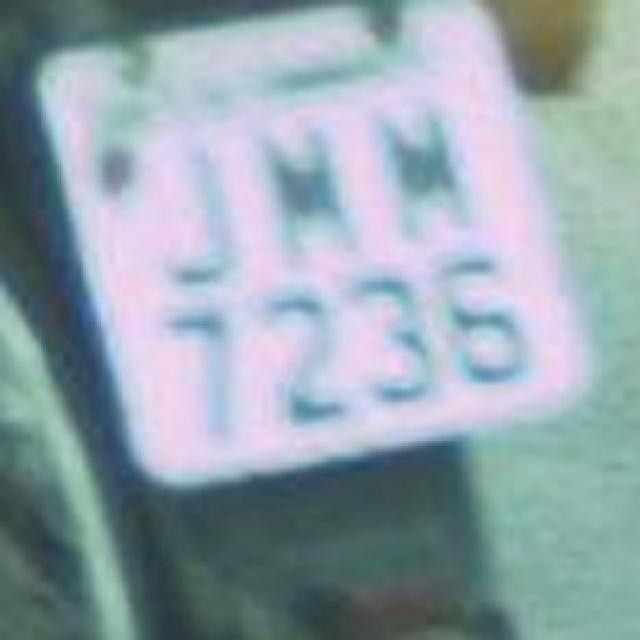2: (236, 272, 369, 436)
3: (325, 252, 460, 416)
6: (416, 232, 552, 396)
7: (151, 292, 264, 456)
J: (136, 140, 252, 288)
N: (348, 80, 484, 245), (236, 108, 364, 264)
